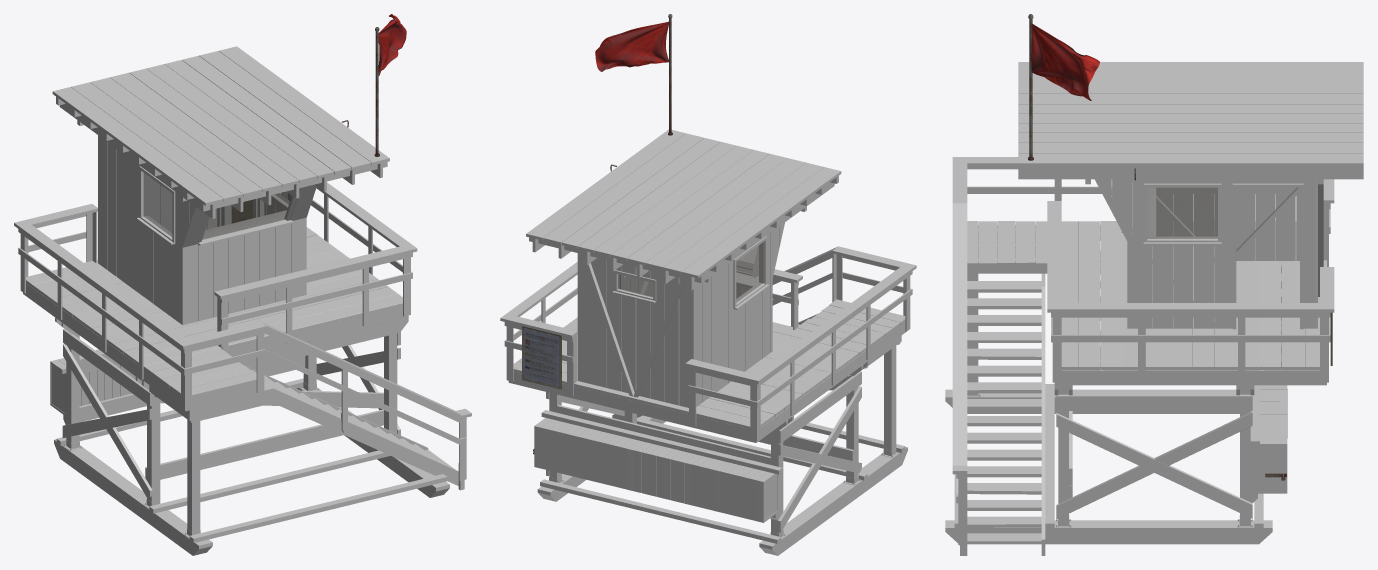
Rendered from guard.fbx.
The picture shows the model from 3 angles, left to right: view 1: azimuth 30°, elevation 25°; view 2: azimuth 150°, elevation 25°; view 3: azimuth 270°, elevation 25°; orthographic projection. The views are drawn at different scales.
Visible parts, largest first — view 1: base1, base3, base2, glass, flag, props; view 2: base3, base1, base2, props, flag, glass; view 3: base1, base3, base2, glass, flag, props.
Boxes of the visible parts, <box> form: base1: <box>23,182,458,555</box>; base3: <box>52,46,389,324</box>; base2: <box>14,204,471,490</box>; glass: <box>144,173,292,239</box>; flag: <box>378,14,406,75</box>; props: <box>231,27,379,223</box>; base3: <box>526,129,841,407</box>; base1: <box>500,260,907,555</box>; base2: <box>685,246,916,441</box>; props: <box>522,14,672,454</box>; flag: <box>595,21,668,71</box>; glass: <box>618,243,762,302</box>; base1: <box>945,201,1334,555</box>; base3: <box>1018,62,1363,329</box>; base2: <box>952,157,1334,555</box>; glass: <box>1111,179,1217,238</box>; flag: <box>1031,23,1099,100</box>; props: <box>1028,14,1332,480</box>.
Bounding box in the file's own units: 2070 × 3101 × 2300.
